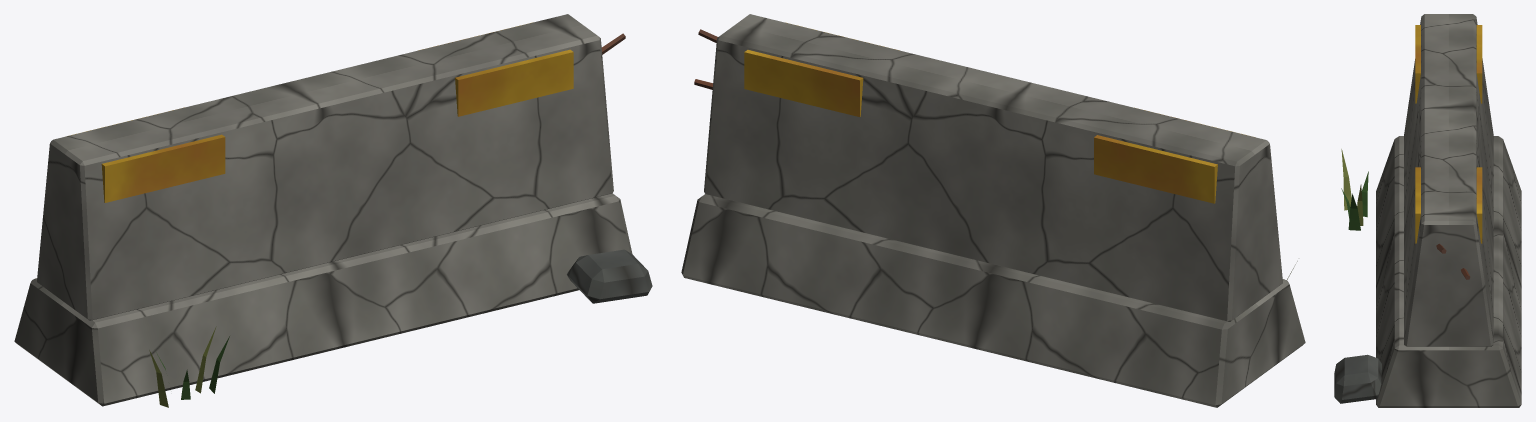
Rendered from env_jersey_barrier.glb.
3 renders of one model, left to right at view 1: azimuth 30°, elevation 25°; view 2: azimuth 150°, elevation 25°; view 3: azimuth 270°, elevation 25°, orthographic. The views are drawn at different scales.
Parts seen in each view (by area): view 1: Env_jersey_barrier; view 2: Env_jersey_barrier; view 3: Env_jersey_barrier.
Part boxes in pixels (x1,y1,x2,y2): Env_jersey_barrier: (14, 14, 652, 407); Env_jersey_barrier: (681, 14, 1305, 407); Env_jersey_barrier: (1334, 14, 1521, 407).
Size of the model in its own units: 2.26 by 0.85 by 0.7862.
Materials: 6 (6 with a texture image).
